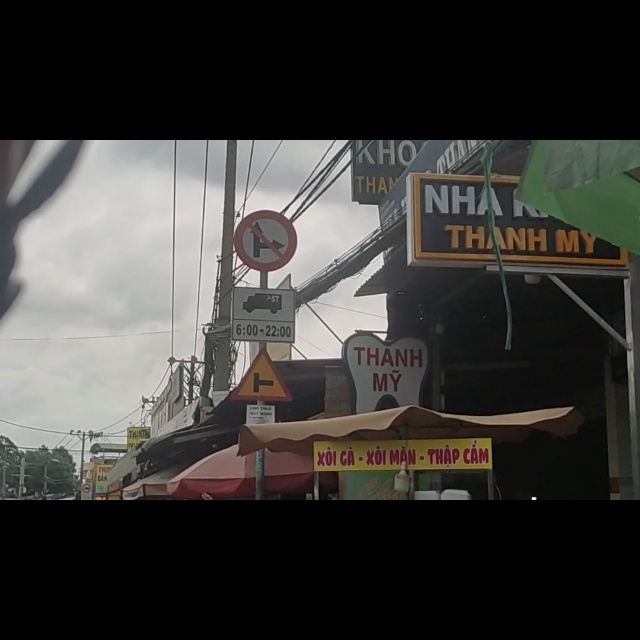bien_cam: (235, 123, 297, 233), (231, 262, 294, 353), (232, 371, 291, 466)
